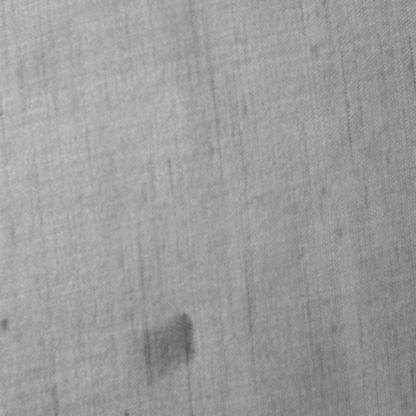oil spot: (140, 308, 196, 392)
